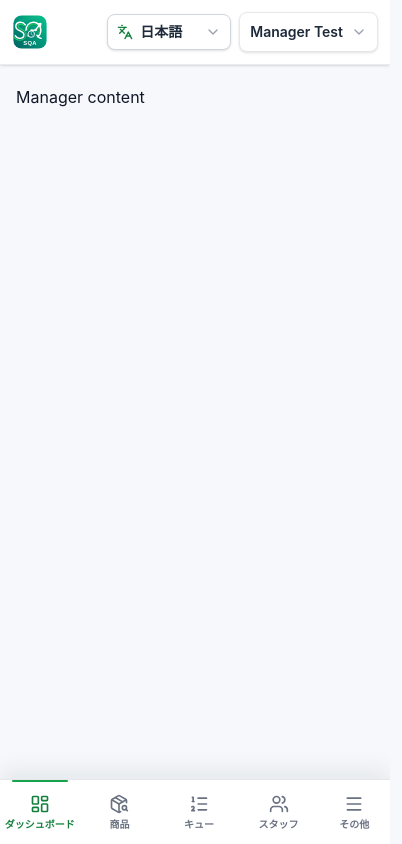
it: RoleAppShell › renders desktop navigation with all items (JSDOM fits all due to 0 width) and mobile navigation with More menu for >5 items
Expected: the link "ダッシュボード" is shown, [0, 780, 80, 843]
Expected: the link "商品" is shown, [109, 794, 129, 830]
Clicking "More" opens the dropdown with the remaining items
Click the button "その他" at (354, 812), box [318, 780, 390, 843]
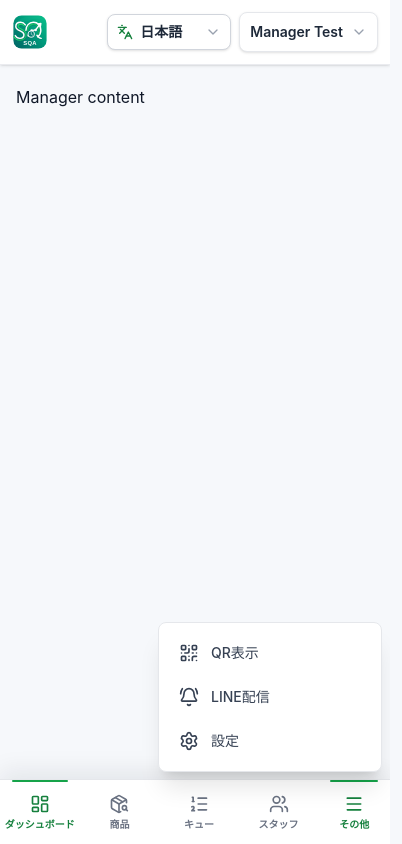
Result: the menu item "QR表示" is shown at [179, 643, 259, 663]
Result: the menu item "LINE配信" is shown at [179, 687, 270, 707]
Result: the menu item "設定" is shown at [179, 731, 239, 751]
